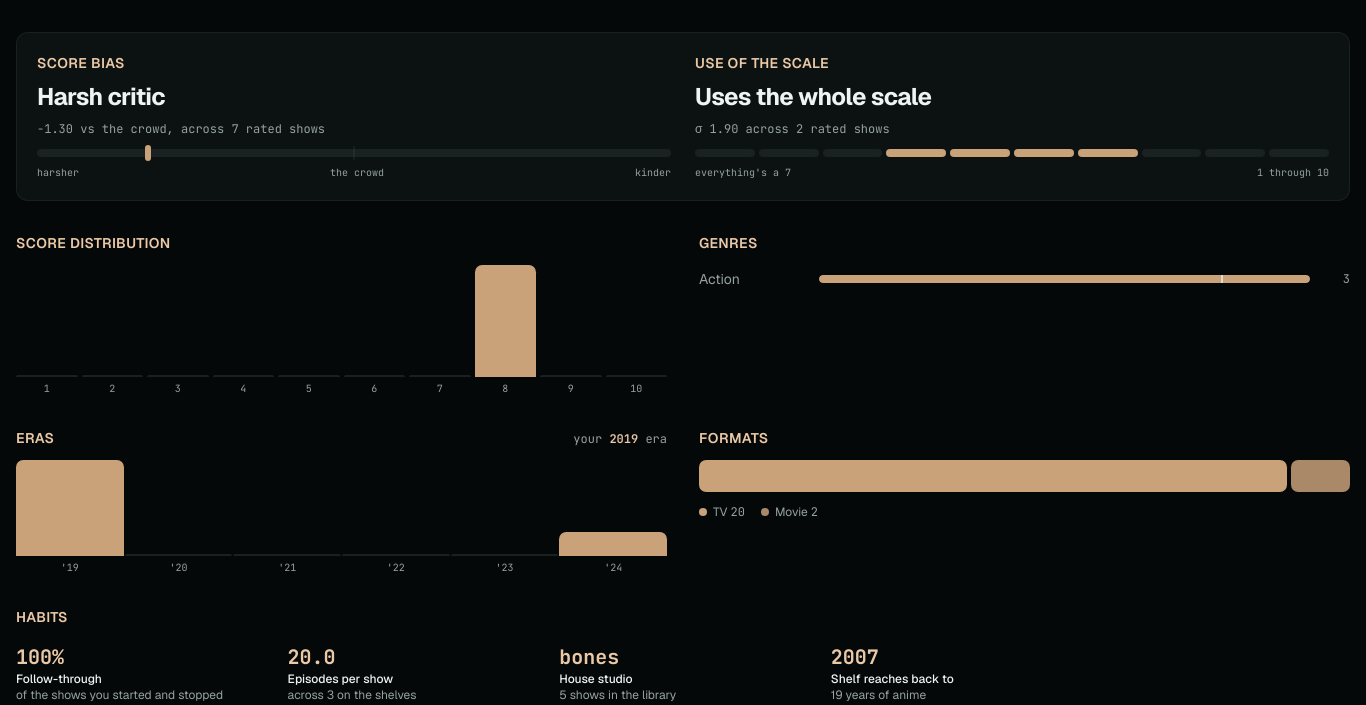
Scenario: ProfileView › a histogram click filters the library to that score across all statuses
The width and height of the screenshot is (1366, 705).
(page scrolled)
Click the button named "2 rated 8": (505, 321) [474,265,536,377]
(page scrolled)
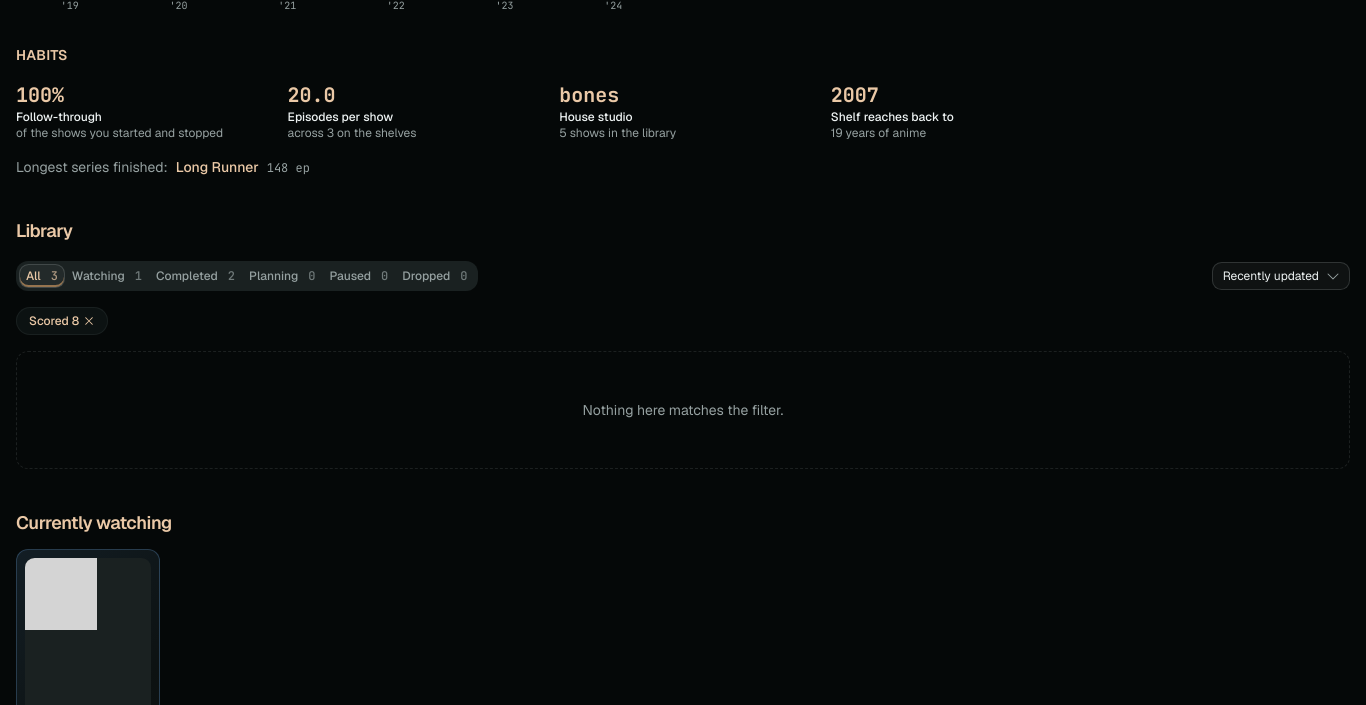
expect the tab "All 3" is shown: met, box [19,264,65,288]
expect the button "Scored 8" is shown: met, box [16,307,108,335]
